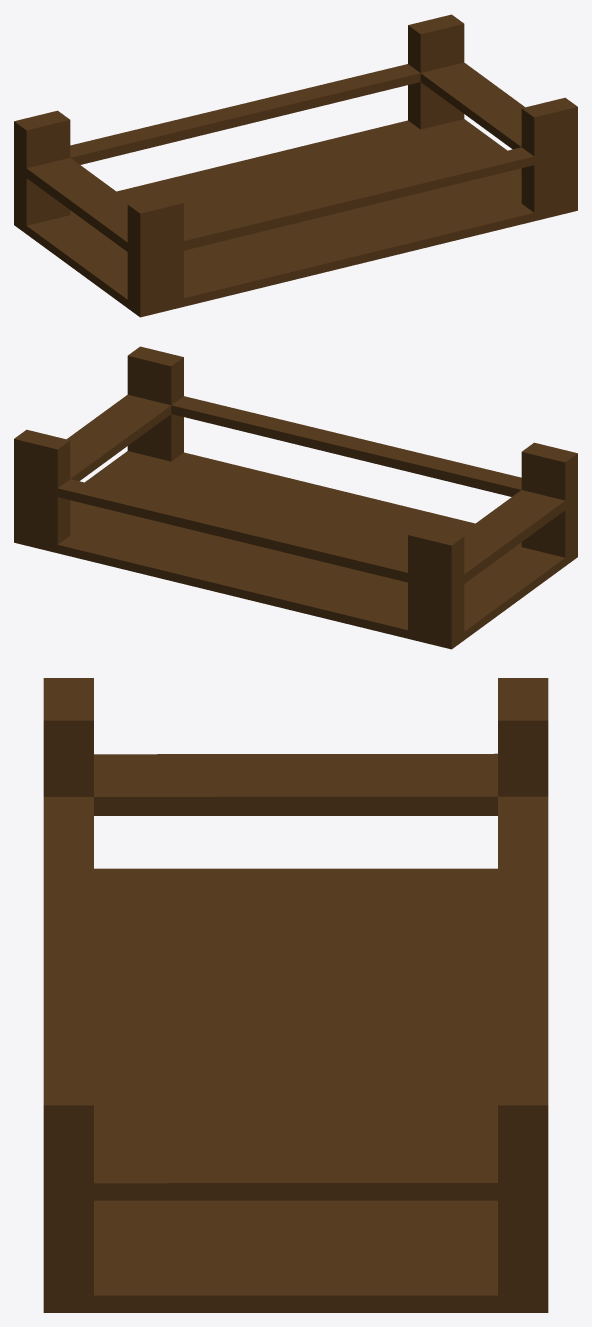
The model's file is container.fbx.
The picture shows the model from 3 angles, top to bottom: view 1: azimuth 30°, elevation 25°; view 2: azimuth 150°, elevation 25°; view 3: azimuth 270°, elevation 25°; orthographic projection. The views are drawn at different scales.
Parts seen in each view (by area): view 1: Cube; view 2: Cube; view 3: Cube.
Boxes of the visible parts, left/top/right/bottom form: Cube: left=14, top=14, right=577, bottom=317; Cube: left=14, top=346, right=577, bottom=649; Cube: left=43, top=678, right=548, bottom=1312.
Size of the model in its own units: 7992 by 1811 by 3991.
